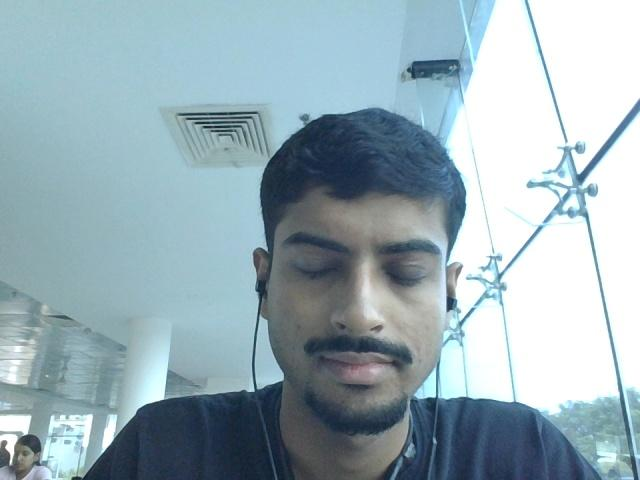nervous: (245, 110, 485, 433)
